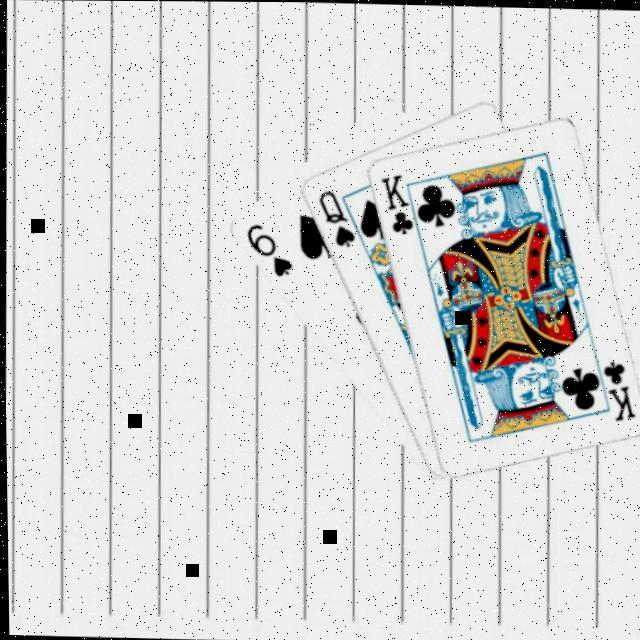6S: (238, 220, 294, 280)
KC: (373, 171, 422, 242), (586, 354, 635, 425)
QS: (311, 187, 356, 251)
